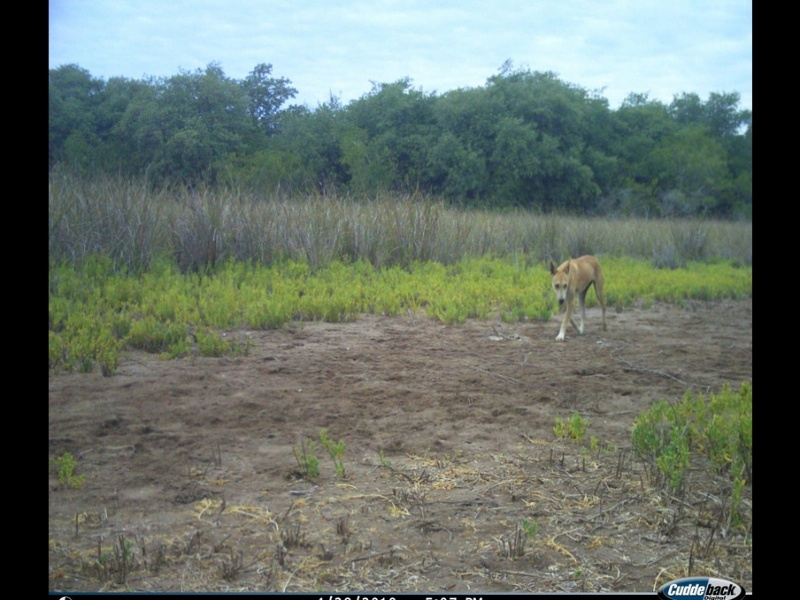dog: (551, 252, 612, 342)
